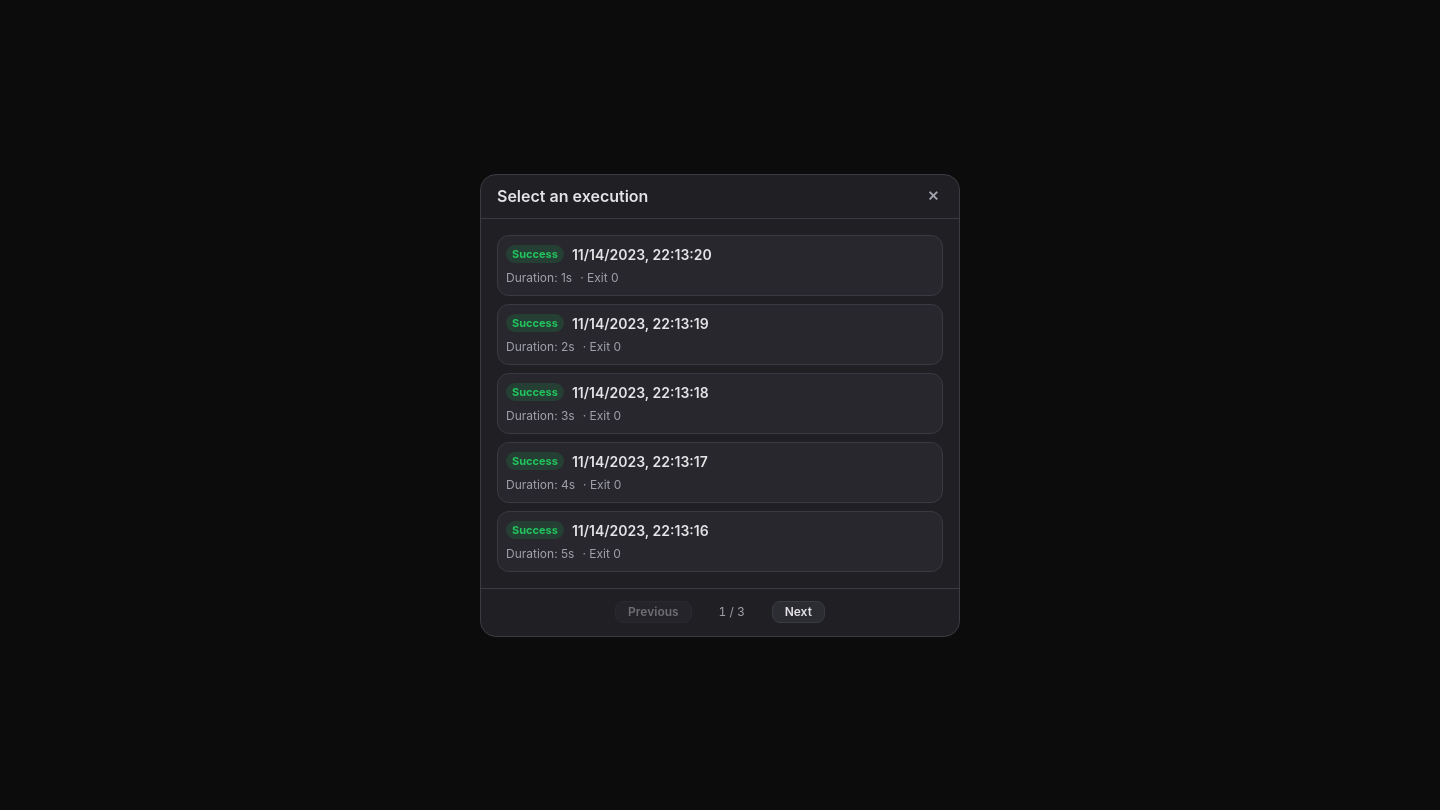
ExecutionHistoryDialog.vue — 历史选择弹框 › 上一页回到前一页
The width and height of the screenshot is (1440, 810).
Click the button with class "ehd-page-btn" showing "Next". click: (798, 612)
box: [772,601,825,623]
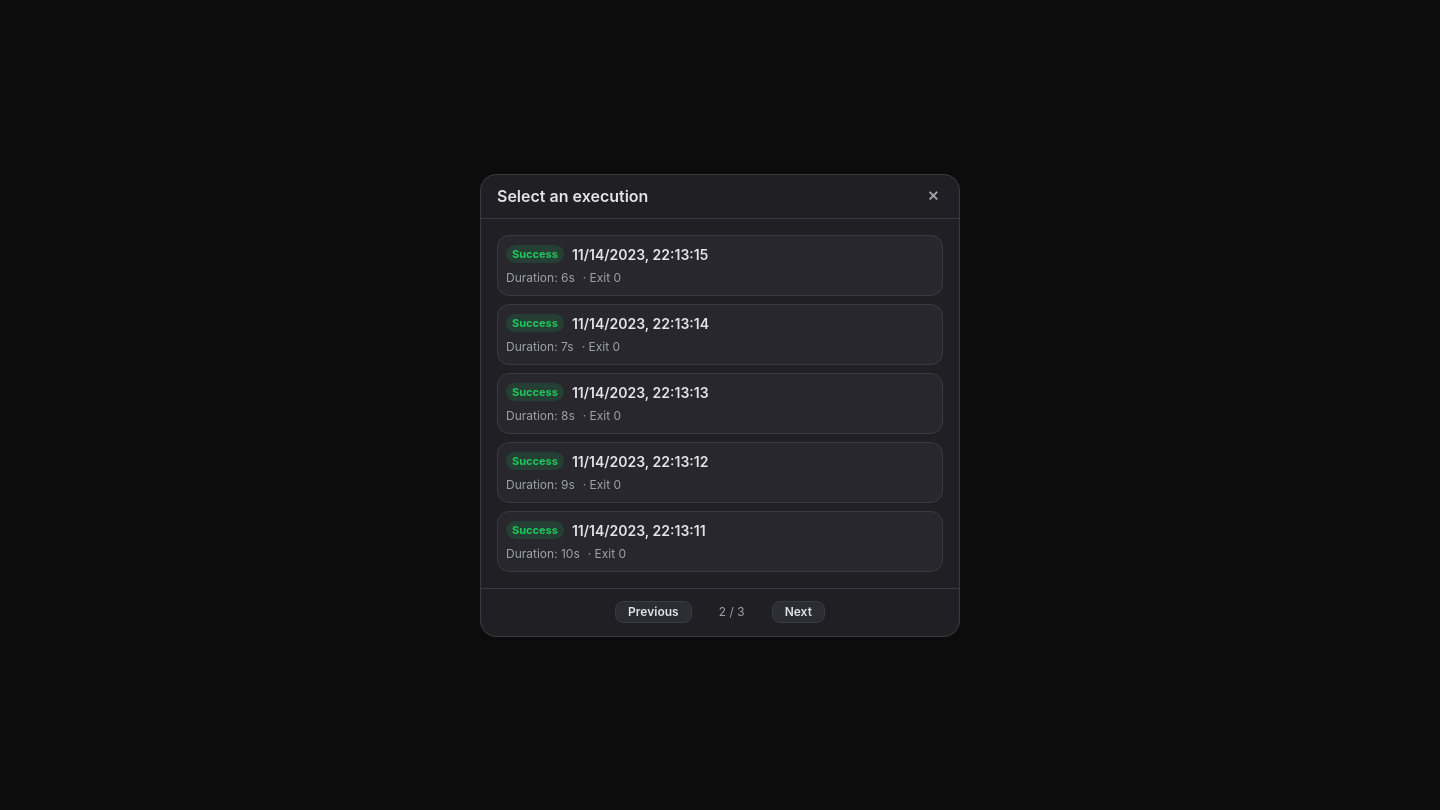
Click the button with class "ehd-page-btn" showing "Previous". click: (653, 612)
box: [615,601,692,623]
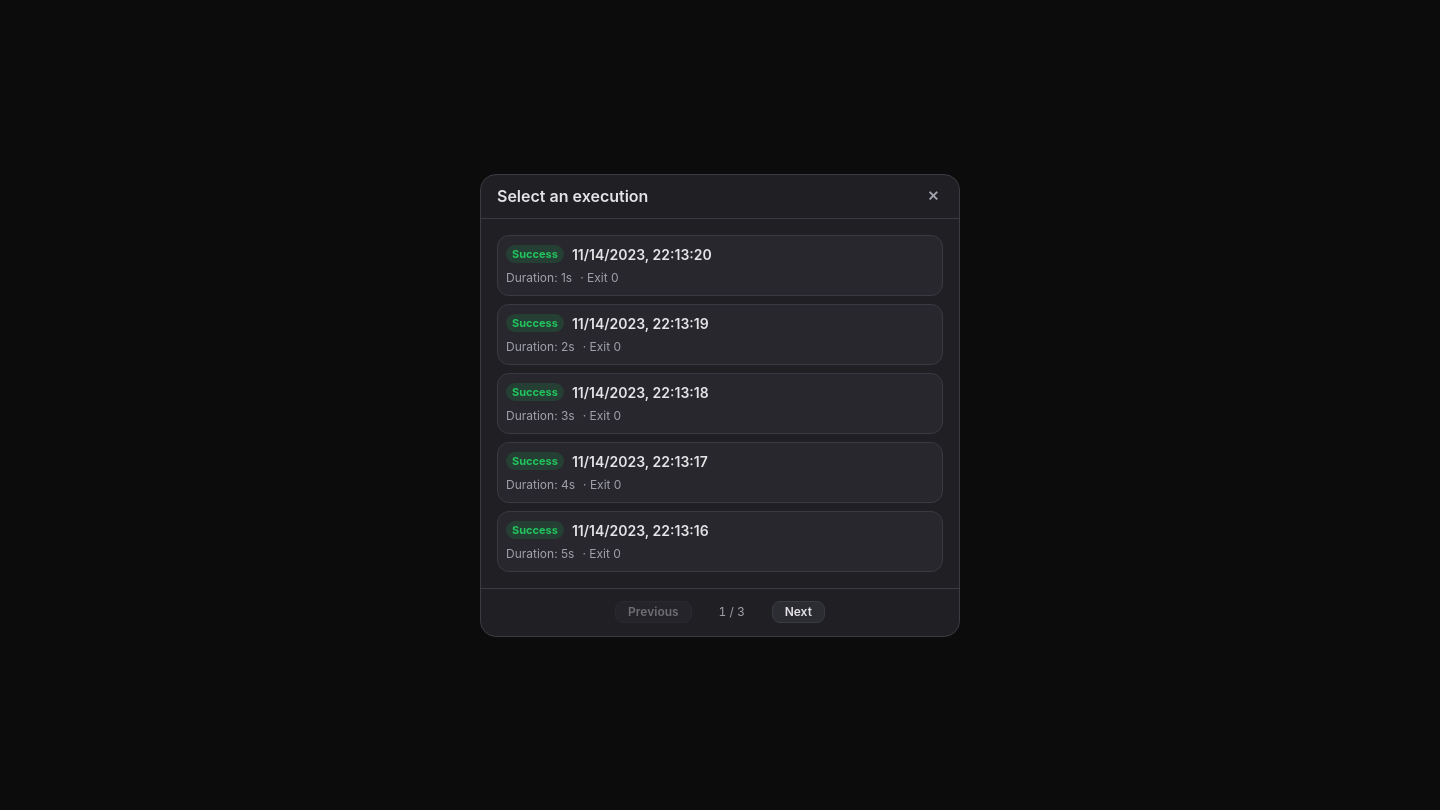
Expected: the text with test id "history-dialog-page" reads "1 / 3", [718,604,745,619]
